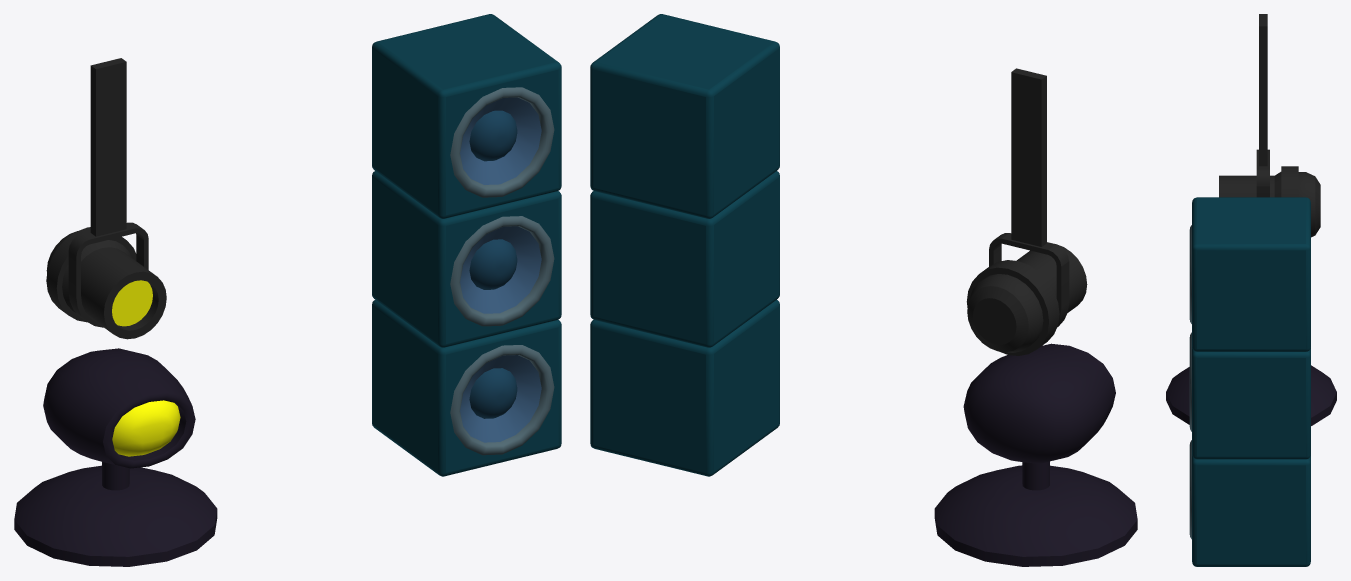
The model's file is room_2.fbx.
3 renders of one model, left to right at view 1: azimuth 30°, elevation 25°; view 2: azimuth 150°, elevation 25°; view 3: azimuth 270°, elevation 25°, orthographic. The views are drawn at different scales.
Parts seen in each view (by area): view 1: Cube, Plane, Cube.001, Cylinder.001, Cylinder, Cube.002, Cylinder.002; view 2: Cube, Plane, Cube.001, Cylinder, Cylinder.001; view 3: Cube, Cylinder, Plane, Cylinder.001.
Part boxes in pixels (x1,y1,x2,y2): Cube: (372, 14, 561, 476); Plane: (14, 462, 217, 566); Cube.001: (43, 348, 195, 468); Cylinder.001: (68, 58, 148, 327); Cylinder: (46, 227, 166, 339); Cube.002: (112, 400, 180, 456); Cylinder.002: (112, 280, 152, 326); Cube: (590, 14, 779, 476); Plane: (934, 461, 1137, 566); Cube.001: (963, 343, 1115, 463); Cylinder: (966, 244, 1087, 355); Cylinder.001: (989, 68, 1069, 327); Cube: (1189, 197, 1310, 566); Cylinder: (1219, 166, 1320, 237); Plane: (1166, 365, 1336, 425); Cylinder.001: (1256, 14, 1269, 197).
Size of the model in its own units: 250 by 217 by 88.34.
